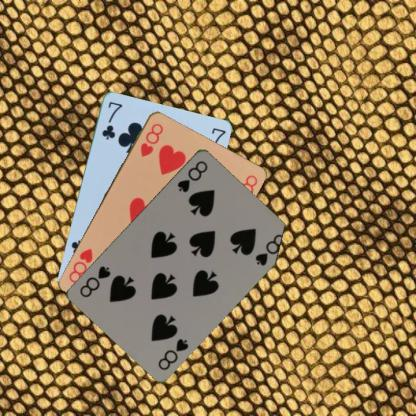7c: (98, 98, 124, 141)
8h: (138, 120, 164, 158)
8s: (175, 157, 209, 194), (156, 335, 190, 371)
